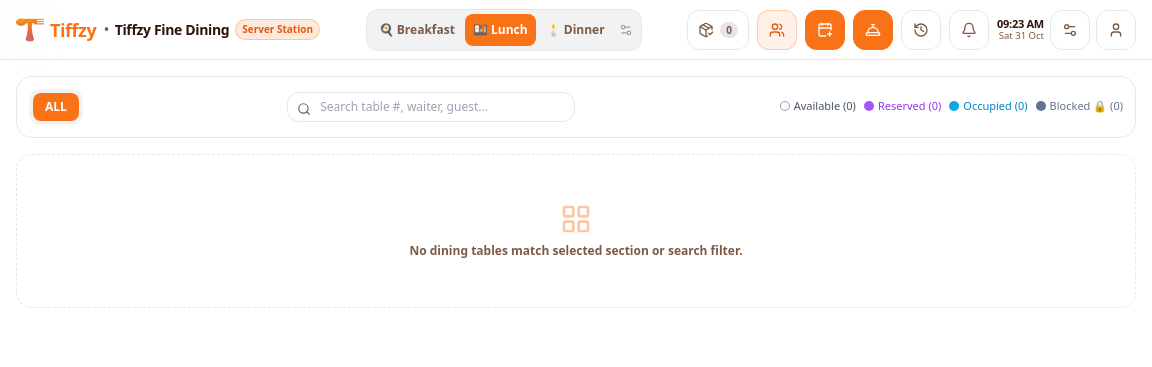
Test: Server Station Navbar — History & Notifications Icon-Only Buttons › 4. Notifications button opens Notifications view on click
Click the button with test id "server-notifications-nav-btn". click: coordinates (969, 30)
box: [949,10,989,50]
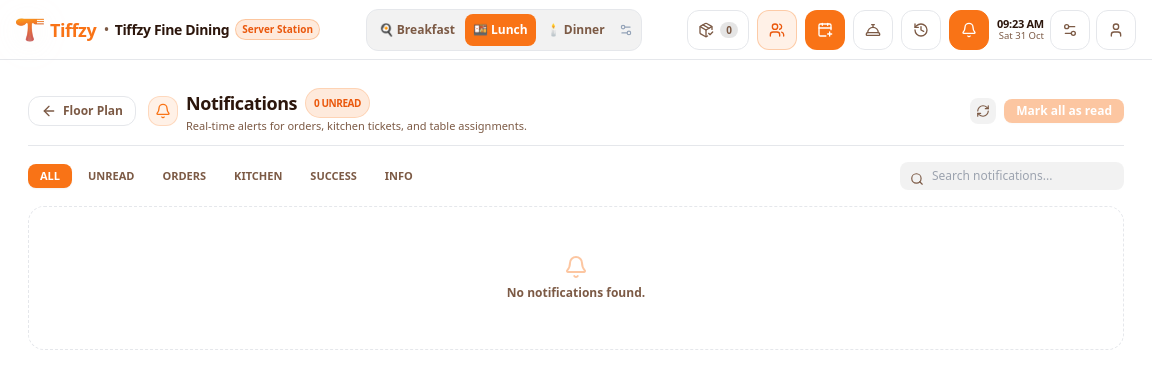
Result: the text "Real-time alerts for orders" is shown at [186,118,527,133]
